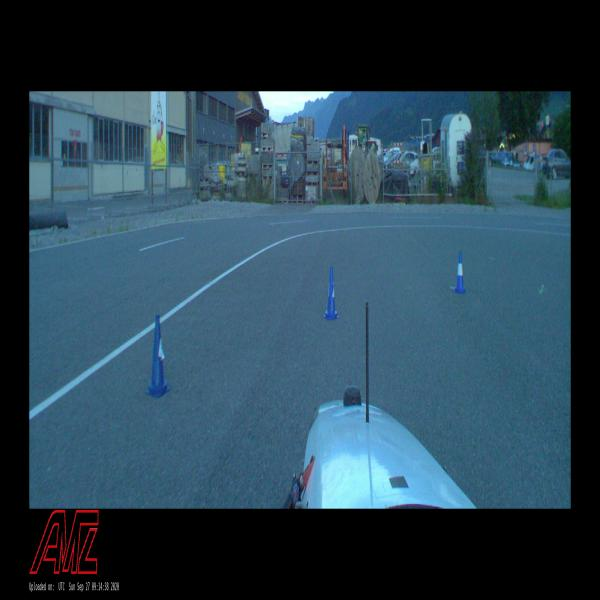blue_cone: (145, 316, 170, 397), (323, 268, 339, 320), (455, 251, 465, 294)
